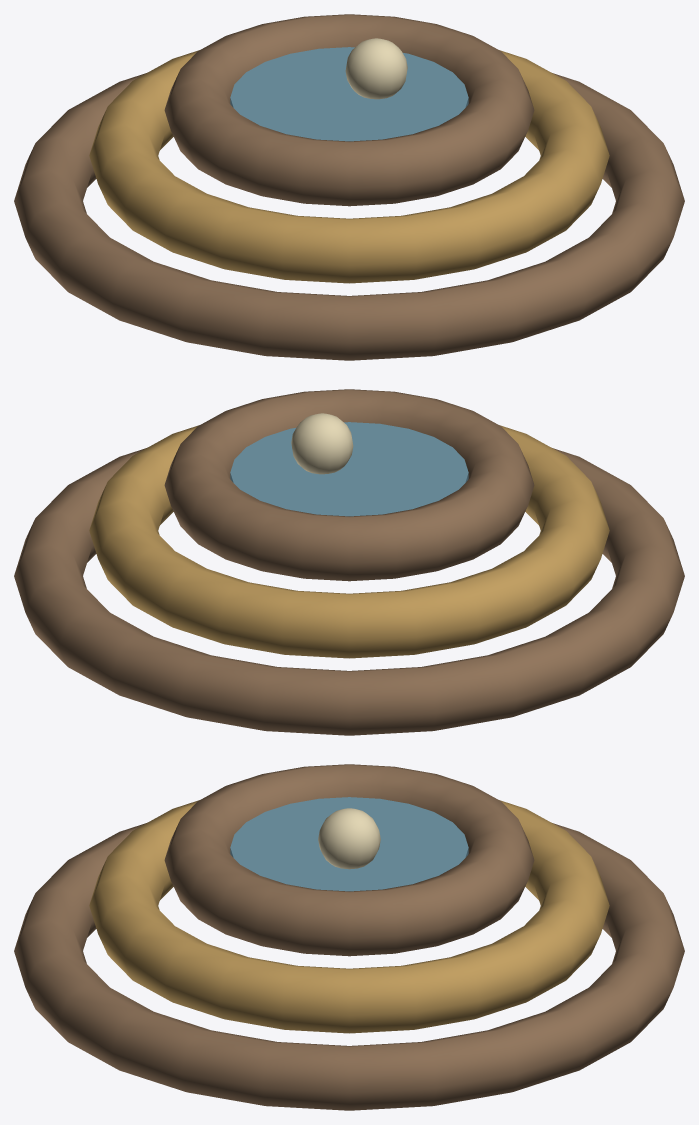
The picture shows the model from 3 angles, top to bottom: view 1: azimuth 30°, elevation 25°; view 2: azimuth 150°, elevation 25°; view 3: azimuth 270°, elevation 25°; orthographic projection.
Bounding box in the file's own units: 1.07 × 0.325 × 1.07.
